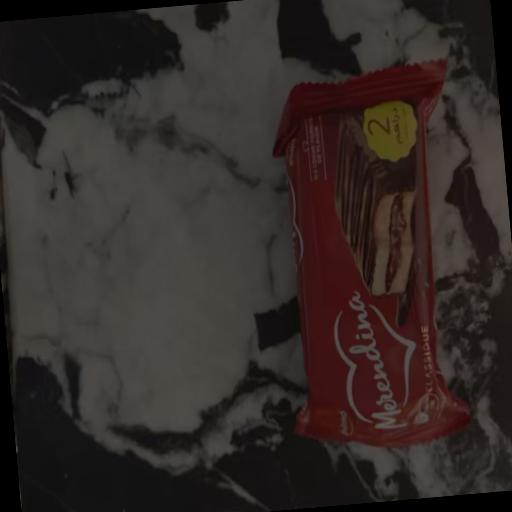merendina: (252, 44, 502, 484)
